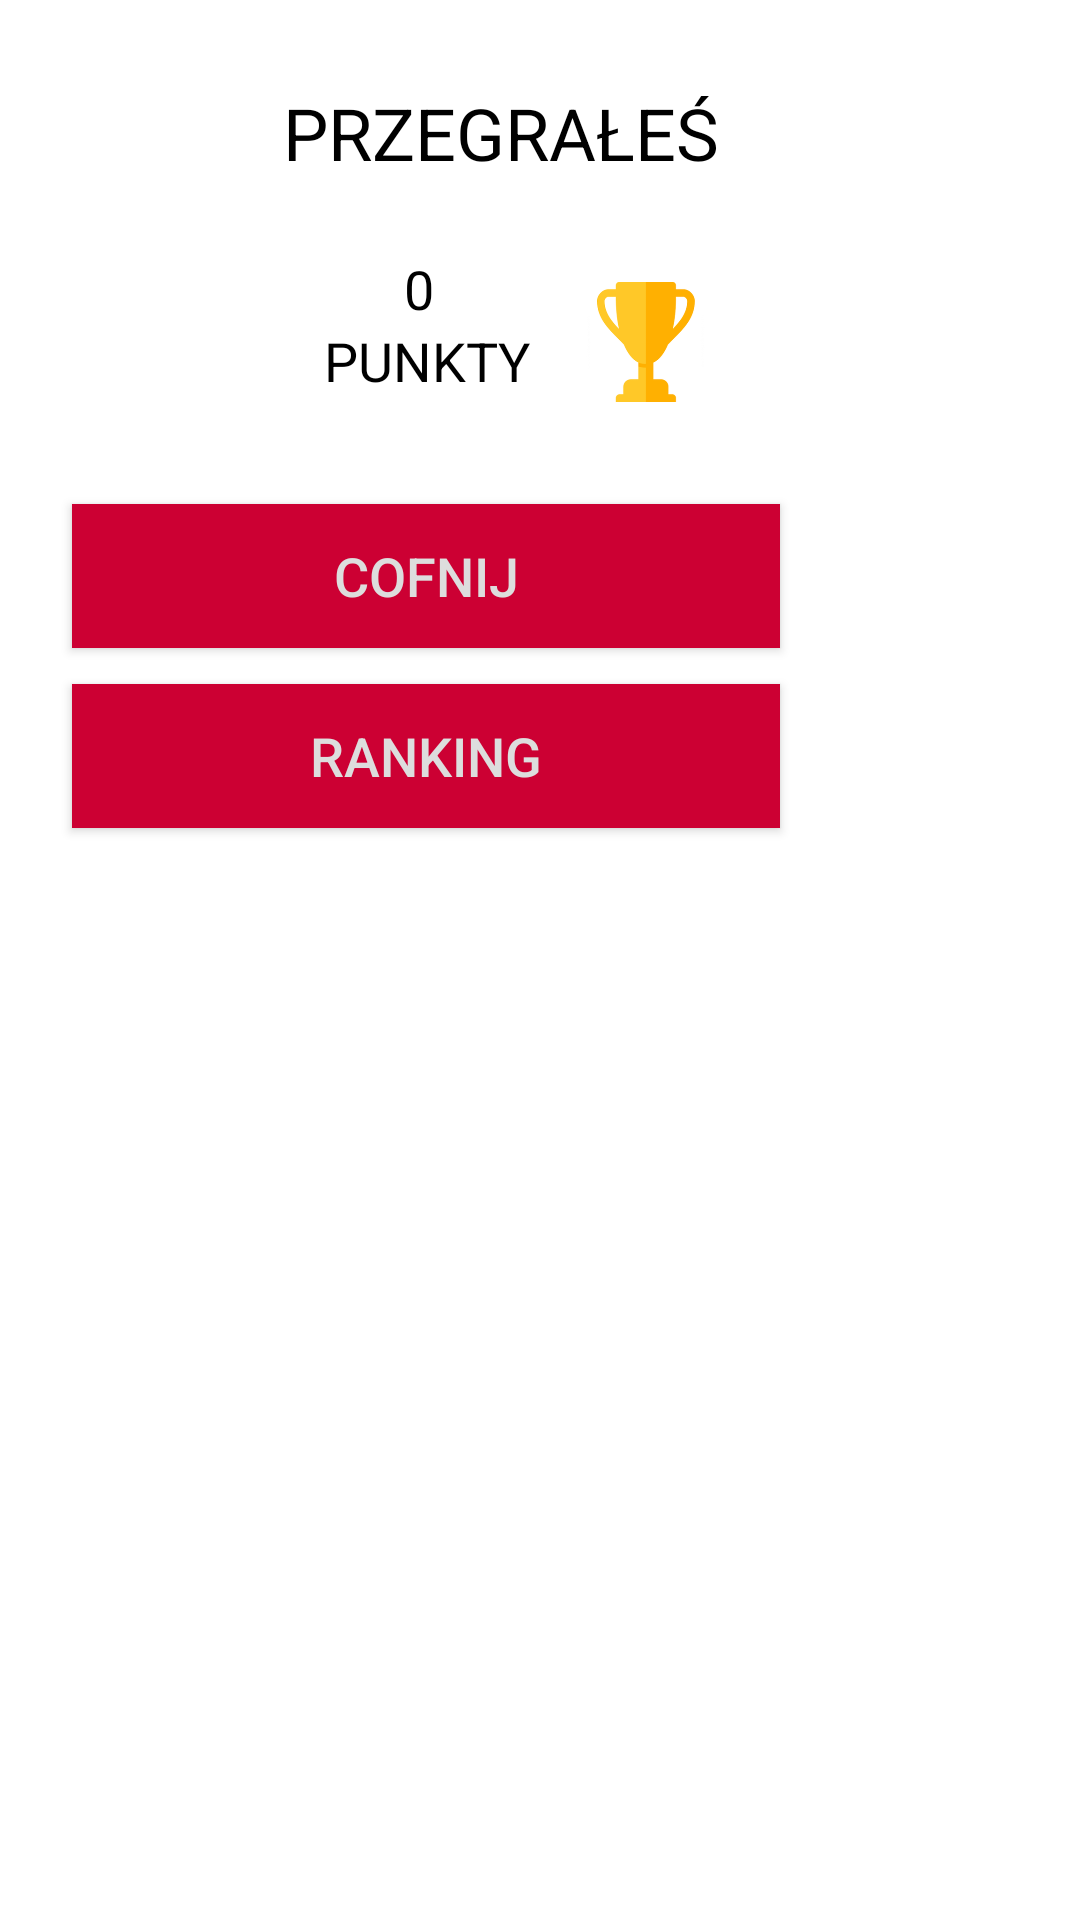

Icons on this 1080px x 1920px Android screen, each with the point to tap as (x,y):
trophy: (646,342)
